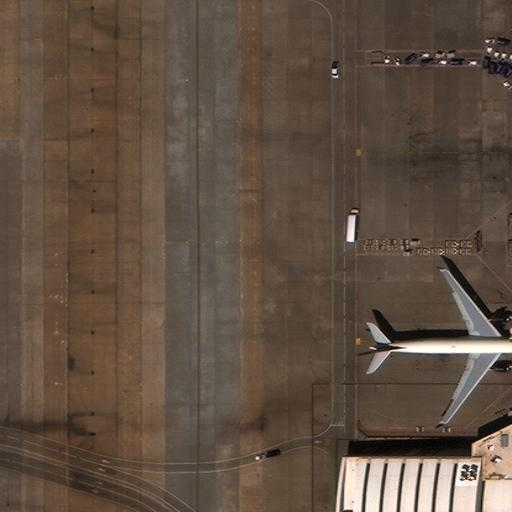Large Civil Transport: (366, 268, 511, 424)
